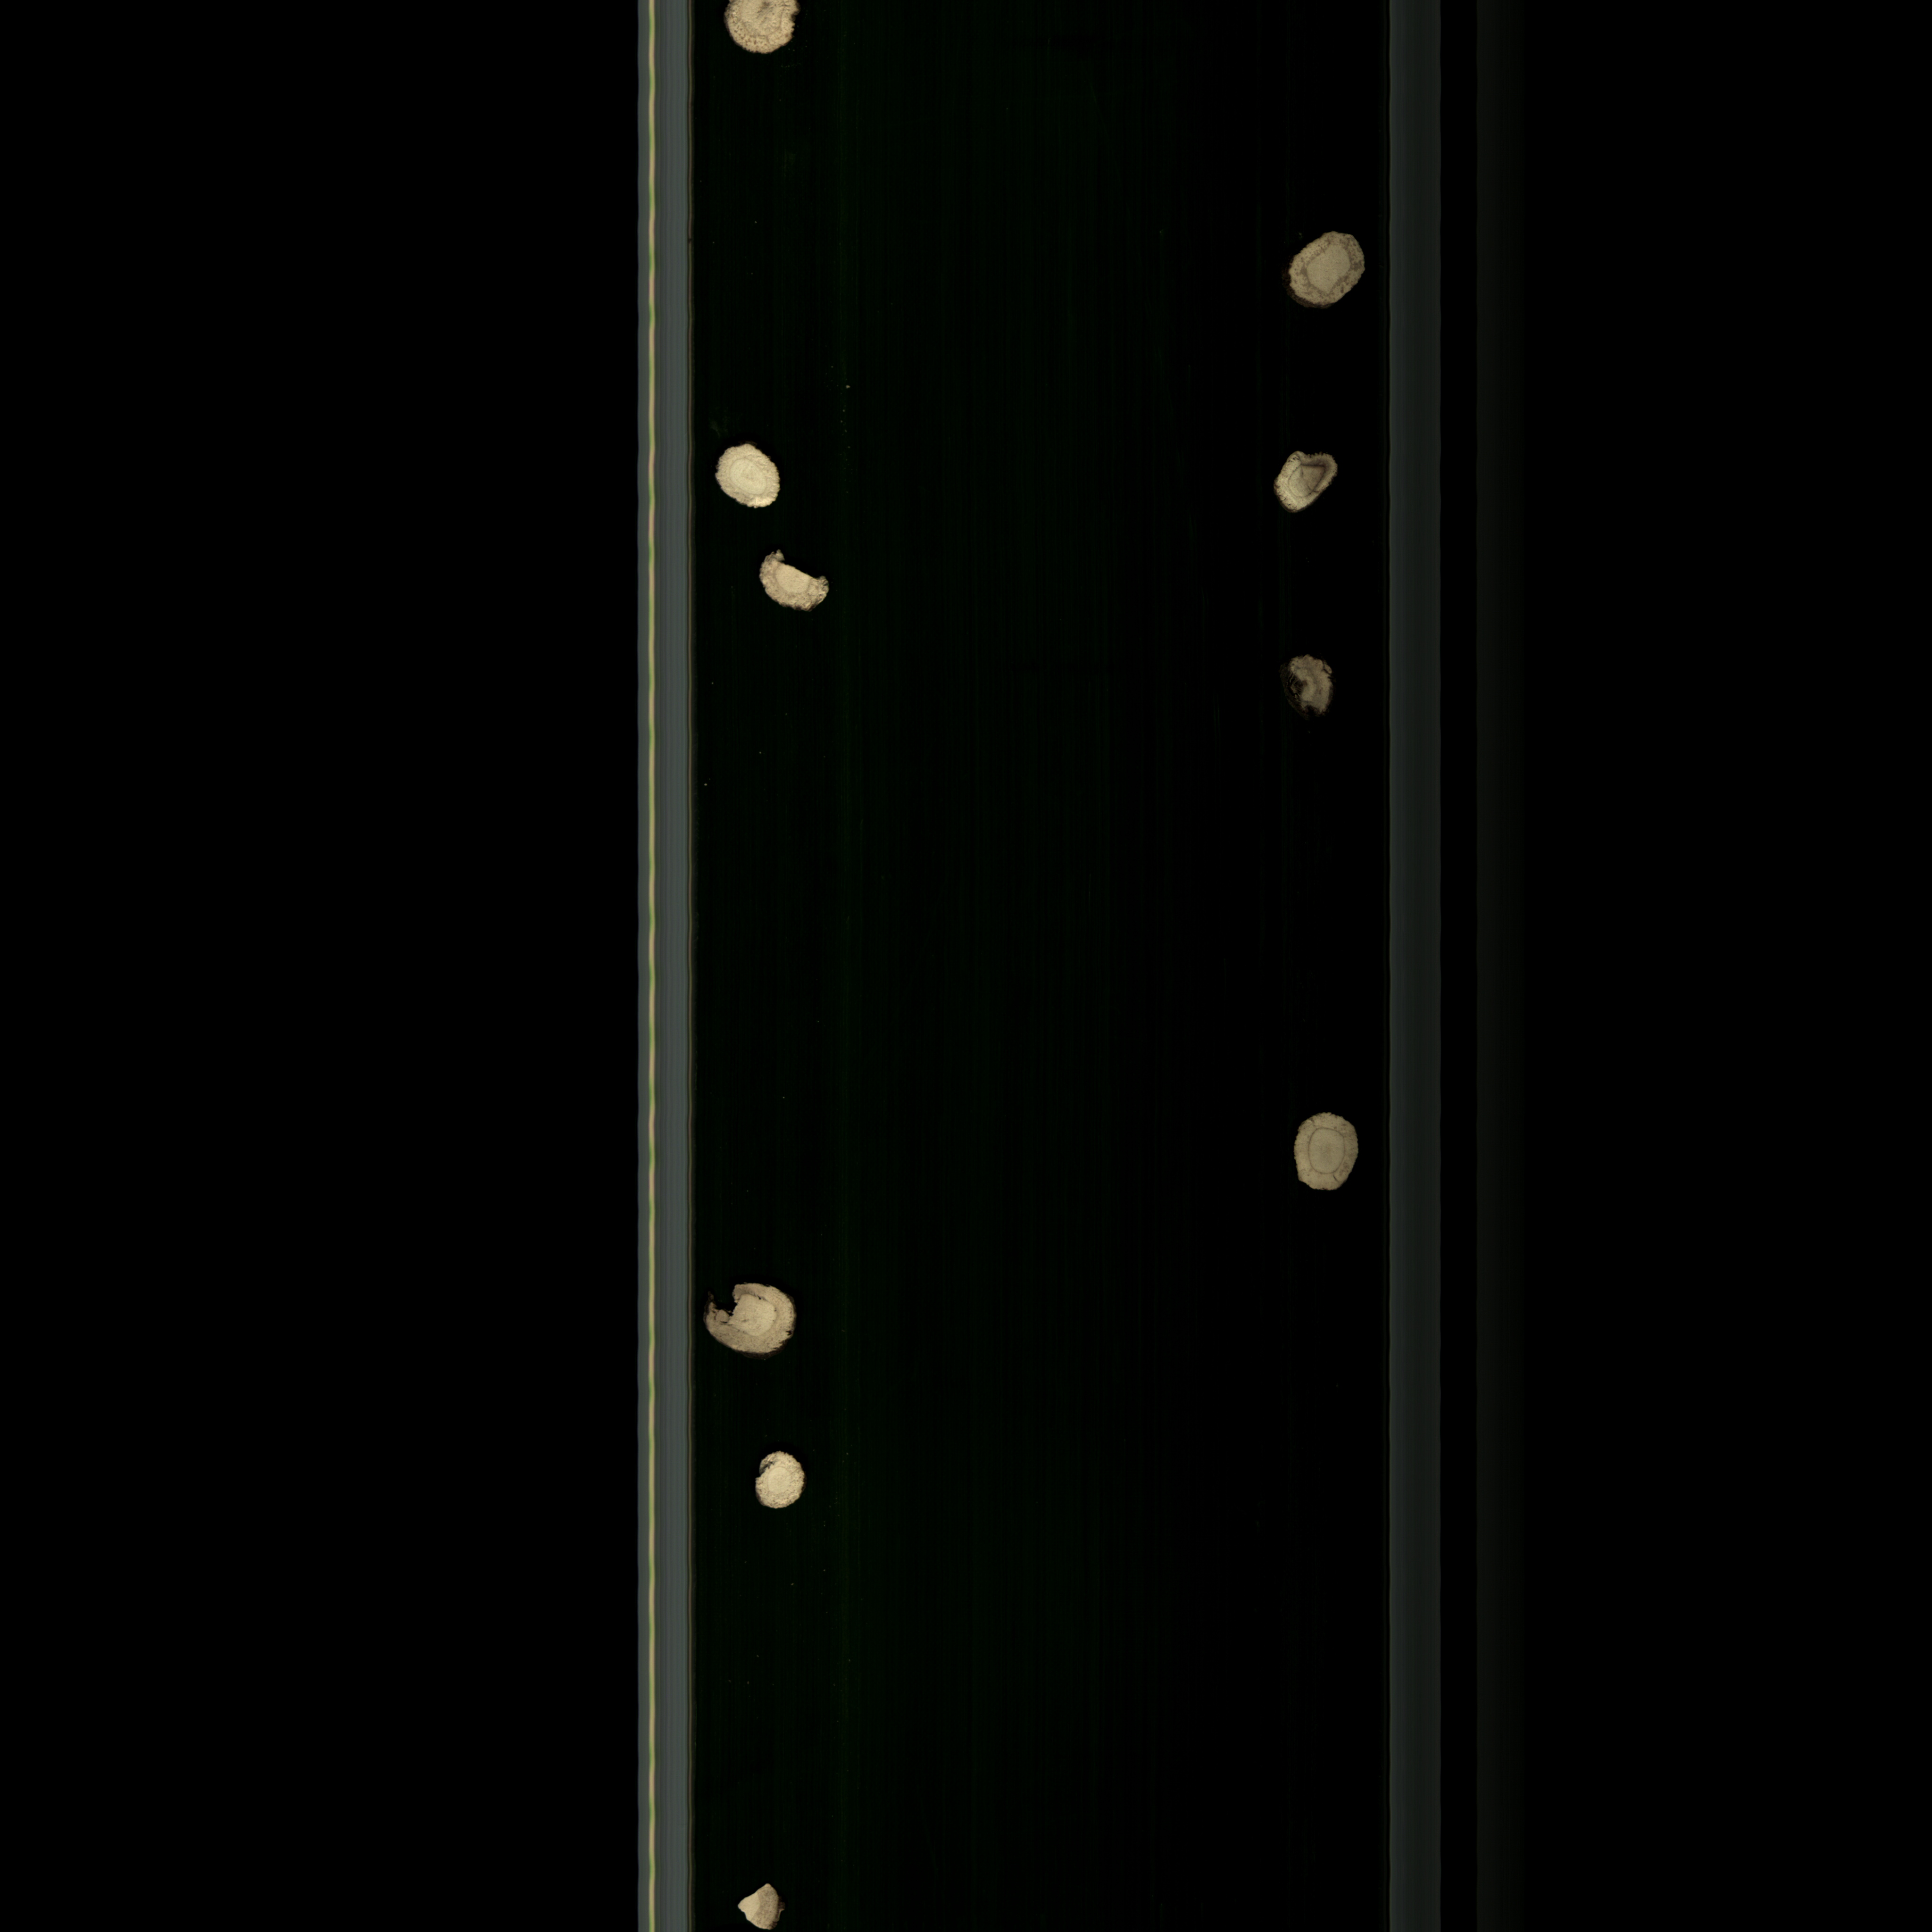debris: (701, 1274, 812, 1366), (752, 540, 846, 616), (732, 1879, 791, 1932)
hole: (741, 1453, 826, 1511)
moldy: (1276, 221, 1373, 315), (722, 0, 809, 60), (1269, 449, 1345, 515), (1277, 653, 1348, 720)
